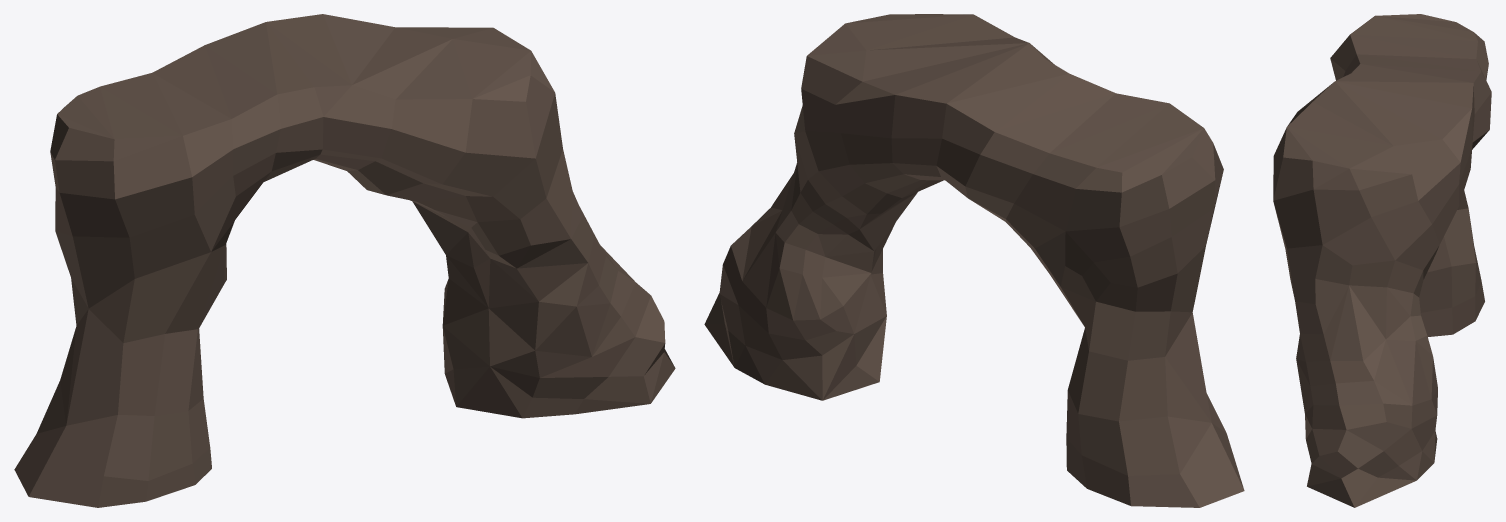
Rendered from Pillar-C12.fbx.
3 views of the same model, side by side, from view 1: azimuth 30°, elevation 25°; view 2: azimuth 150°, elevation 25°; view 3: azimuth 270°, elevation 25° (orthographic). The views are drawn at different scales.
Visible parts, largest first — view 1: Pillar-C12; view 2: Pillar-C12; view 3: Pillar-C12.
Part boxes in pixels (box(x1,y1,x2,y2)): Pillar-C12: box(14, 14, 675, 507); Pillar-C12: box(704, 14, 1244, 507); Pillar-C12: box(1273, 14, 1491, 507).
Size of the model in its own units: 487 by 190 by 287.
